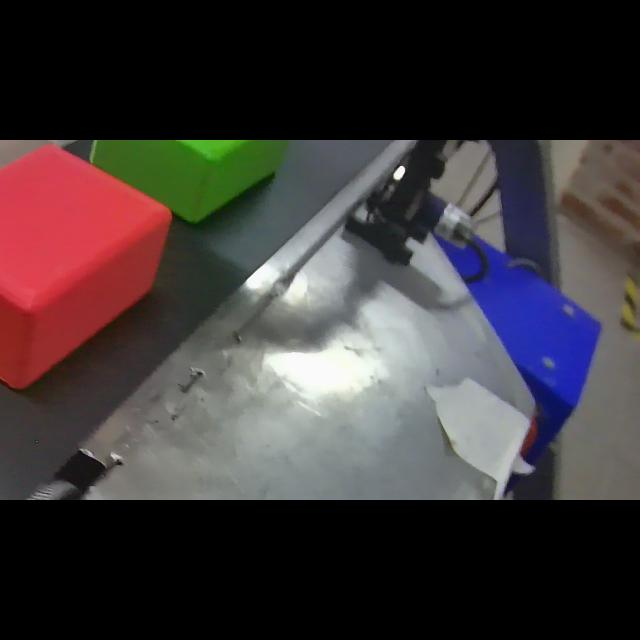greenBox: (89, 140, 304, 228)
redBox: (0, 140, 174, 396)
